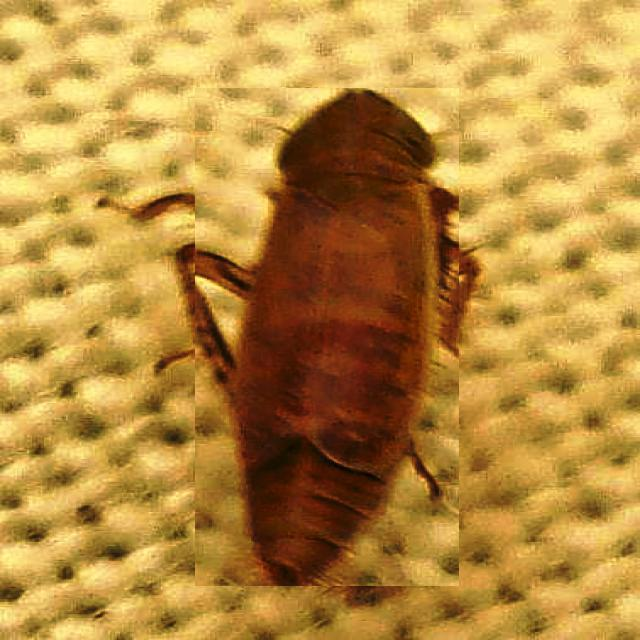green-leafhopper: (195, 89, 459, 587)
